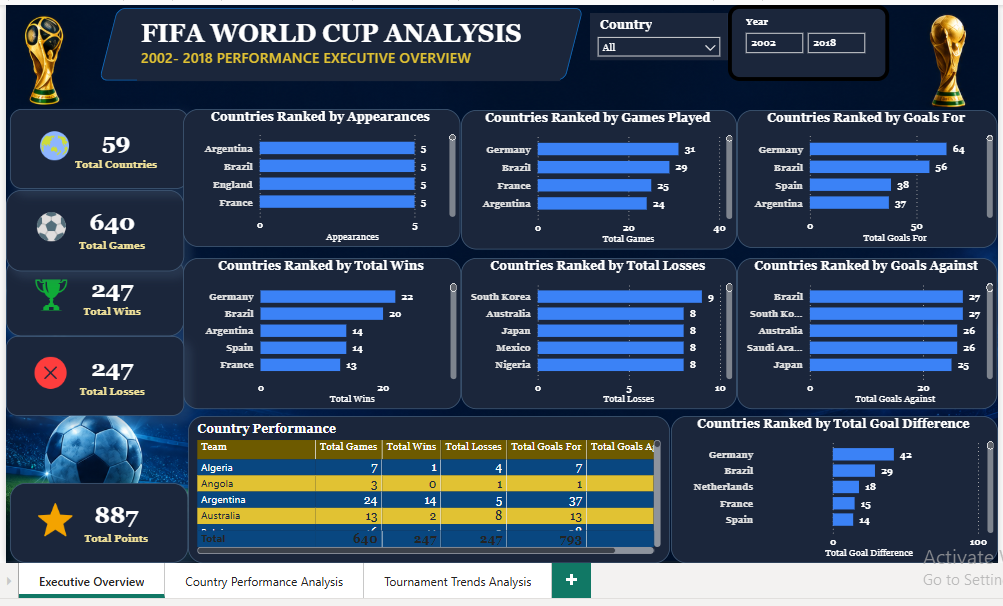

What the dashboard file says about the page in this screenshot:
{"tool":"powerbi","page":{"name":"Executive Overview","canvas":[1280,720],"ordinal":0},"visuals":[{"type":"group","id":"g1","title":"Group 1","box":[120.5,4.3,625,93.5],"z":0},{"type":"shape","box":[120.5,4.3,625,93.5],"z":0,"group":"g1"},{"type":"textbox","box":[170.1,14.2,545.7,83.6],"z":1000,"group":"g1"},{"type":"cardVisual","fields":{"Data":["Fact_FIFA.Total Wins"]},"box":[0,326,229.6,100.6],"z":1000},{"type":"cardVisual","fields":{"Data":["Fact_FIFA.Total Points"]},"box":[5.7,616.5,229.6,103.5],"z":2000},{"type":"cardVisual","fields":{"Data":["Fact_FIFA.Total Games"]},"box":[0,238.1,229.6,104.9],"z":3000},{"type":"cardVisual","fields":{"Data":["Fact_FIFA.Total Countries"]},"box":[5.7,134.6,229.6,103.5],"z":4000},{"type":"pivotTable","title":"Country Performance","fields":{"Rows":["DimCountry.Team"],"Values":["Fact_FIFA.Total Games","Fact_FIFA.Total Wins","Fact_FIFA.Total Losses","Fact_FIFA.Total Goals For","Fact_FIFA.Total Goals Against"]},"box":[235.3,530.1,622.2,189.9],"z":5000},{"type":"clusteredBarChart","title":"Countries Ranked by Appearances","fields":{"Category":["DimCountry.Team"],"Y":["Fact_FIFA.Appearances"]},"box":[228.1,134,357.8,178.2],"z":6000},{"type":"clusteredBarChart","title":"Countries Ranked by Games Played","fields":{"Category":["DimCountry.Team"],"Y":["Fact_FIFA.Total Games"]},"box":[587.3,135.4,356.3,179.6],"z":7000},{"type":"clusteredBarChart","title":"Countries Ranked by Total Wins","fields":{"Category":["Fact_FIFA.Team"],"Y":["Fact_FIFA.Total Wins"]},"box":[228.1,326.4,359.2,195.3],"z":8000},{"type":"clusteredBarChart","title":"Countries Ranked by Total Losses","fields":{"Category":["DimCountry.Team"],"Y":["Fact_FIFA.Total Losses"]},"box":[587.3,326.4,356.3,195.3],"z":9000},{"type":"clusteredBarChart","title":"Countries Ranked by Goals For","fields":{"Category":["DimCountry.Team"],"Y":["Fact_FIFA.Total Goals For"]},"box":[943.6,135.4,336.4,178.2],"z":10000},{"type":"clusteredBarChart","title":"Countries Ranked by Goals Against","fields":{"Category":["DimCountry.Team"],"Y":["Fact_FIFA.Total Goals Against"]},"box":[943.6,326.4,336.4,195.3],"z":11000},{"type":"clusteredBarChart","title":"Countries Ranked by Total Goal Difference","fields":{"Category":["DimCountry.Team"],"Y":["Fact_FIFA.Total Goal Difference"]},"box":[857.5,530.1,422.4,189.9],"z":12000},{"type":"group","id":"g2","title":"Group 1","box":[754,10,178.2,61.3],"z":13000},{"type":"slicer","fields":{"Values":["Fact_FIFA.Team"]},"box":[754,10,178.2,61.3],"z":13002,"group":"g2"},{"type":"slicer","fields":{"Values":["DimYear.Tournament Year"]},"box":[931.6,0,229.7,98.1],"z":14000},{"type":"cardVisual","fields":{"Data":["Fact_FIFA.Total Losses"]},"box":[0,426.6,229.6,103.5],"z":15000}]}

Visuals, with their boxes on the page's 1280x720 design canvas (x1, y1, x2, y2). These are canvas units, not pixel positions in the 1003x606 screenshot, which may show the page scaled, cropped or inside an application window:
"Group 1" group: x1=120, y1=4, x2=746, y2=98
shape: x1=120, y1=4, x2=746, y2=98
textbox: x1=170, y1=14, x2=716, y2=98
cardVisual - Fact_FIFA.Total Wins: x1=0, y1=326, x2=230, y2=427
cardVisual - Fact_FIFA.Total Points: x1=6, y1=616, x2=235, y2=720
cardVisual - Fact_FIFA.Total Games: x1=0, y1=238, x2=230, y2=343
cardVisual - Fact_FIFA.Total Countries: x1=6, y1=135, x2=235, y2=238
"Country Performance" pivotTable: x1=235, y1=530, x2=858, y2=720
"Countries Ranked by Appearances" clusteredBarChart: x1=228, y1=134, x2=586, y2=312
"Countries Ranked by Games Played" clusteredBarChart: x1=587, y1=135, x2=944, y2=315
"Countries Ranked by Total Wins" clusteredBarChart: x1=228, y1=326, x2=587, y2=522
"Countries Ranked by Total Losses" clusteredBarChart: x1=587, y1=326, x2=944, y2=522
"Countries Ranked by Goals For" clusteredBarChart: x1=944, y1=135, x2=1280, y2=314
"Countries Ranked by Goals Against" clusteredBarChart: x1=944, y1=326, x2=1280, y2=522
"Countries Ranked by Total Goal Difference" clusteredBarChart: x1=858, y1=530, x2=1280, y2=720
"Group 1" group: x1=754, y1=10, x2=932, y2=71
slicer - Fact_FIFA.Team: x1=754, y1=10, x2=932, y2=71
slicer - DimYear.Tournament Year: x1=932, y1=0, x2=1161, y2=98
cardVisual - Fact_FIFA.Total Losses: x1=0, y1=427, x2=230, y2=530
